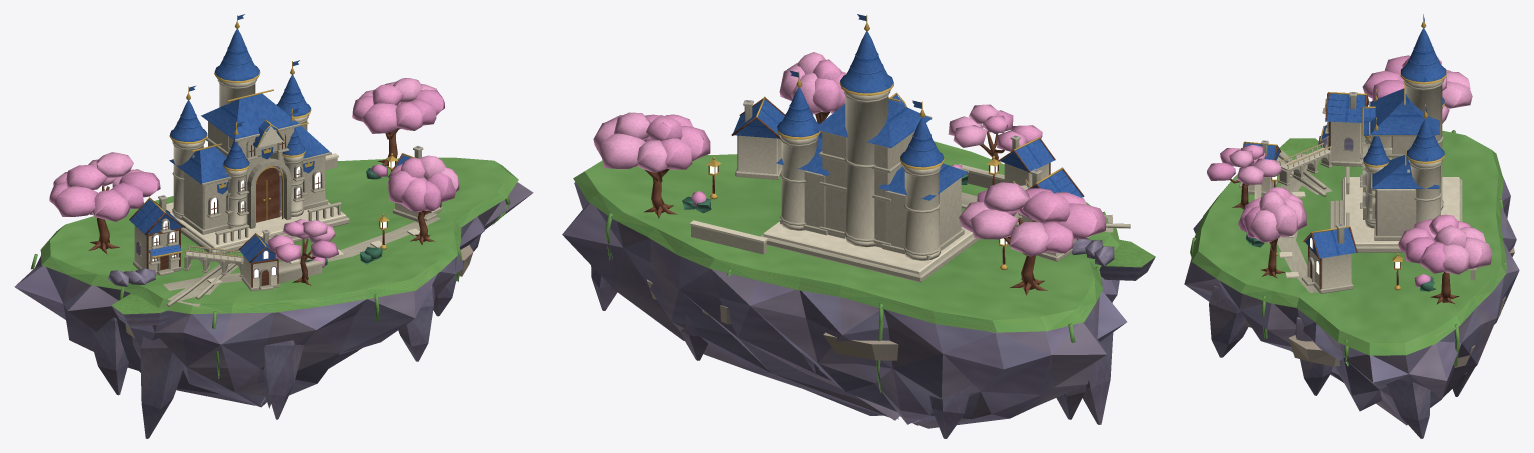
The model's file is royal-island-left-v2-balanced.glb.
3 renders of one model, left to right at view 1: azimuth 30°, elevation 25°; view 2: azimuth 150°, elevation 25°; view 3: azimuth 270°, elevation 25°, orthographic. The views are drawn at different scales.
Parts seen in each view (by area): view 1: royal-island-left-v2; view 2: royal-island-left-v2; view 3: royal-island-left-v2.
Part boxes in pixels (x1,y1,x2,y2): royal-island-left-v2: (14, 14, 533, 438); royal-island-left-v2: (562, 14, 1155, 438); royal-island-left-v2: (1184, 14, 1519, 438).
Size of the model in its own units: 20.58 by 14.89 by 12.01.
10 materials, 10 textured.
